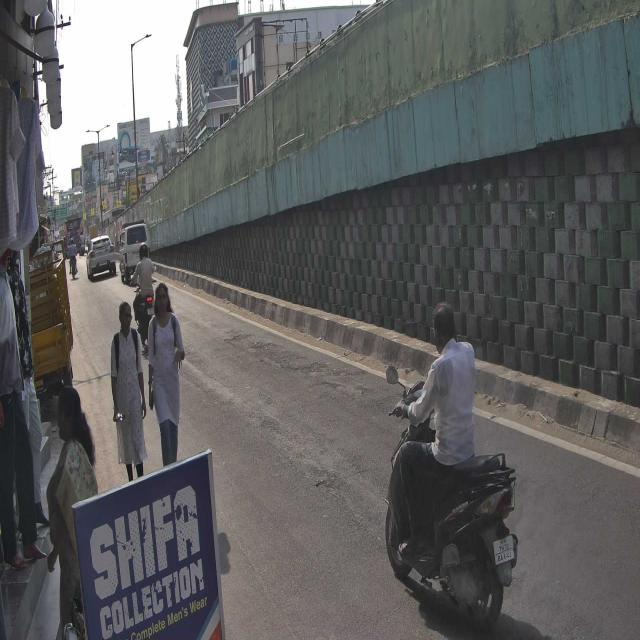single_rider: (382, 299, 519, 624)
